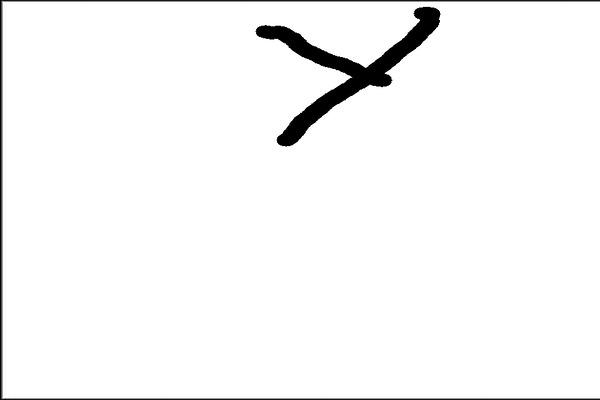Y: (247, 2, 448, 164)
